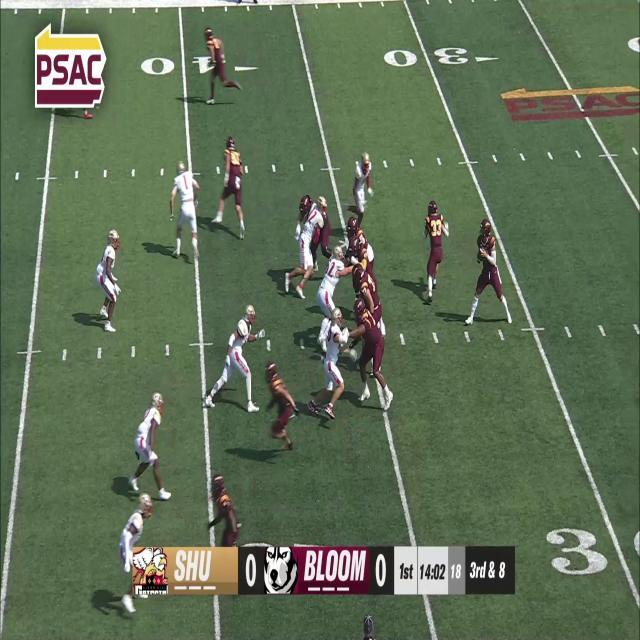football: (474, 247, 484, 264)
